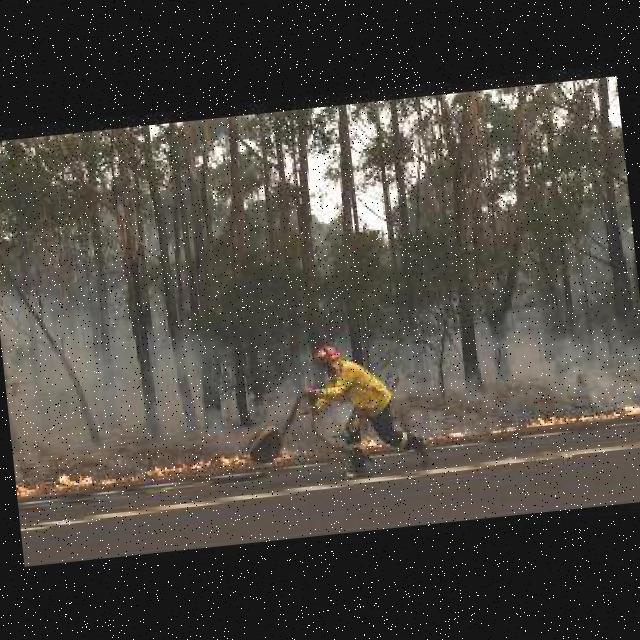Fire: (51, 464, 118, 487), (150, 455, 213, 473), (428, 425, 469, 439), (219, 449, 246, 464), (17, 477, 37, 495), (363, 435, 392, 446), (491, 425, 515, 433)
